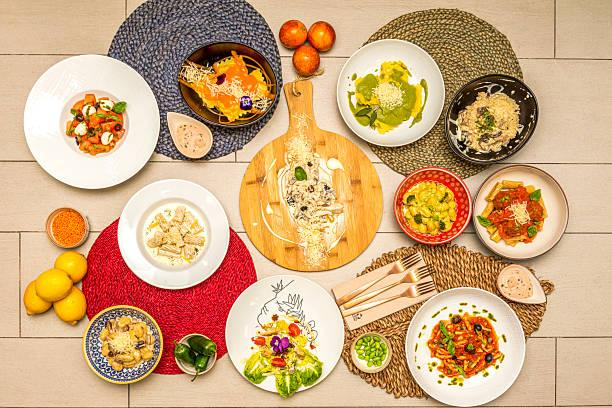Braised Crucian Carp: (238, 80, 380, 272), (20, 51, 162, 195), (404, 286, 526, 404), (224, 275, 342, 395), (119, 177, 232, 290), (336, 39, 443, 149), (471, 165, 567, 259), (444, 73, 538, 164), (178, 42, 277, 128), (395, 166, 471, 251), (83, 308, 167, 382)
